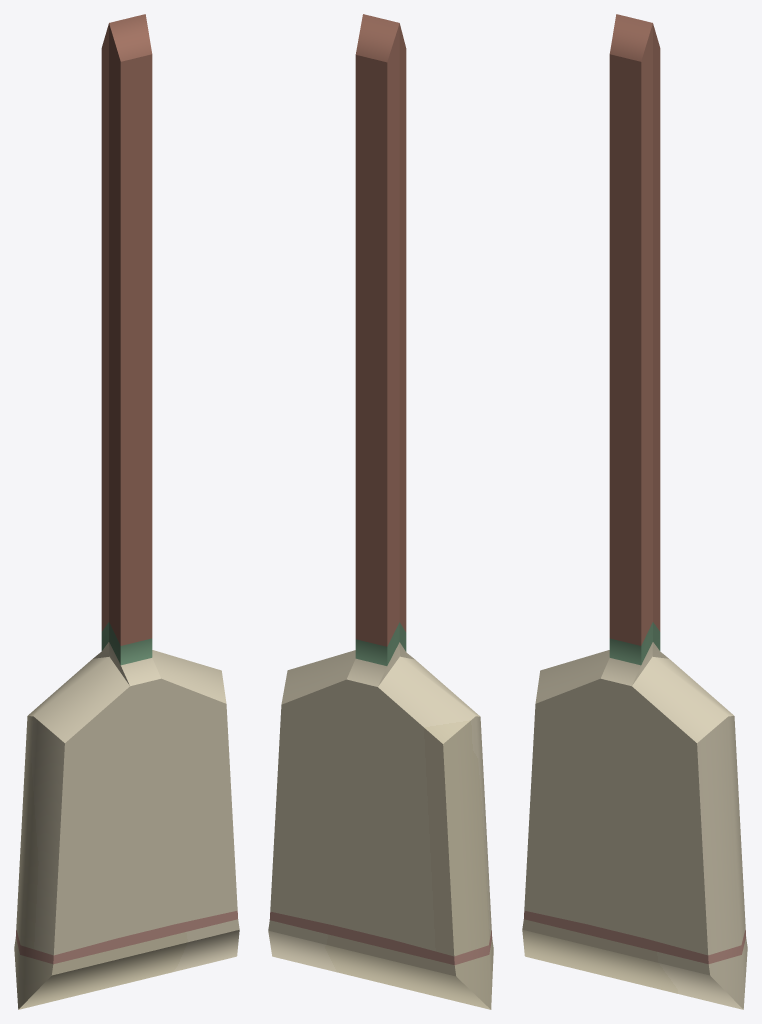
Rendered from broom.fbx.
3 renders of one model, left to right at view 1: azimuth 30°, elevation 25°; view 2: azimuth 150°, elevation 25°; view 3: azimuth 330°, elevation 25°, orthographic.
Parts seen in each view (by area): view 1: broom; view 2: broom; view 3: broom.
Boxes of the visible parts, box(x1,y1,x2,y2) form: broom: box(14, 14, 239, 1009); broom: box(268, 14, 493, 1009); broom: box(522, 14, 747, 1009).
Size of the model in its own units: 1.84 by 7.77 by 0.5474.
